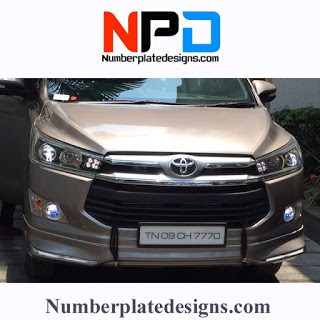number_plate: (136, 221, 226, 245)
